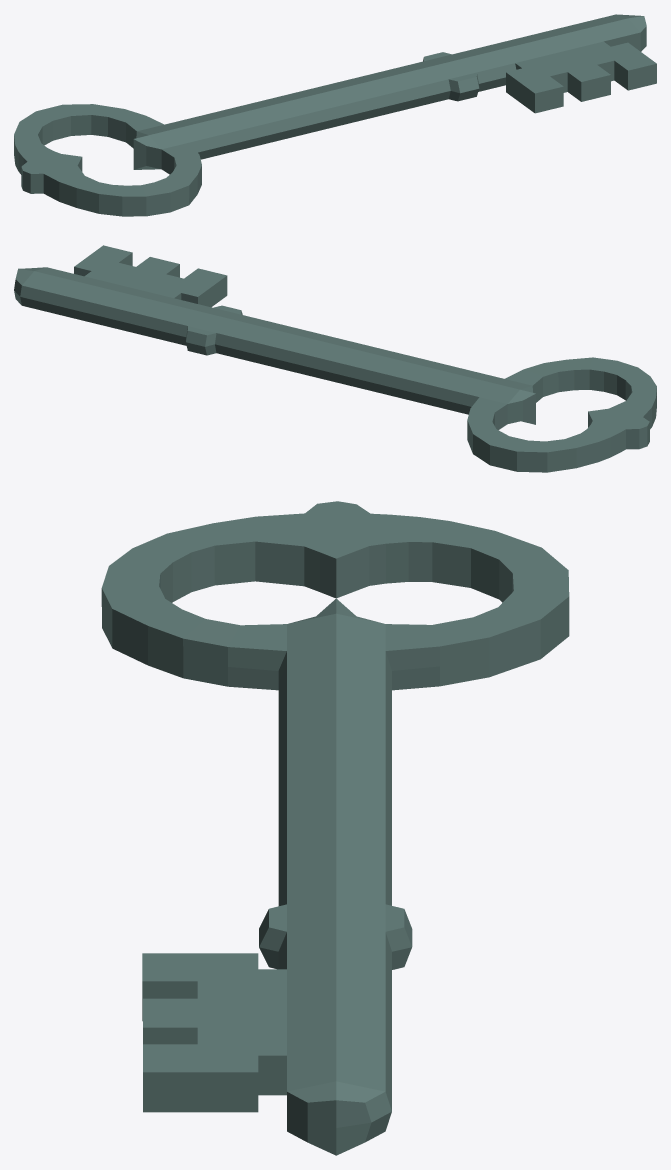
Rendered from MasterKey.fbx.
3 renders of one model, top to bottom at view 1: azimuth 30°, elevation 25°; view 2: azimuth 150°, elevation 25°; view 3: azimuth 270°, elevation 25°, orthographic. The views are drawn at different scales.
Parts seen in each view (by area): view 1: MasterKey; view 2: MasterKey; view 3: MasterKey.
Boxes of the visible parts, box(x1,y1,x2,y2) form: MasterKey: box(14, 14, 656, 216); MasterKey: box(14, 245, 656, 472); MasterKey: box(101, 501, 569, 1155).
Bounding box in the file's own units: 1455 × 69.45 × 474.
